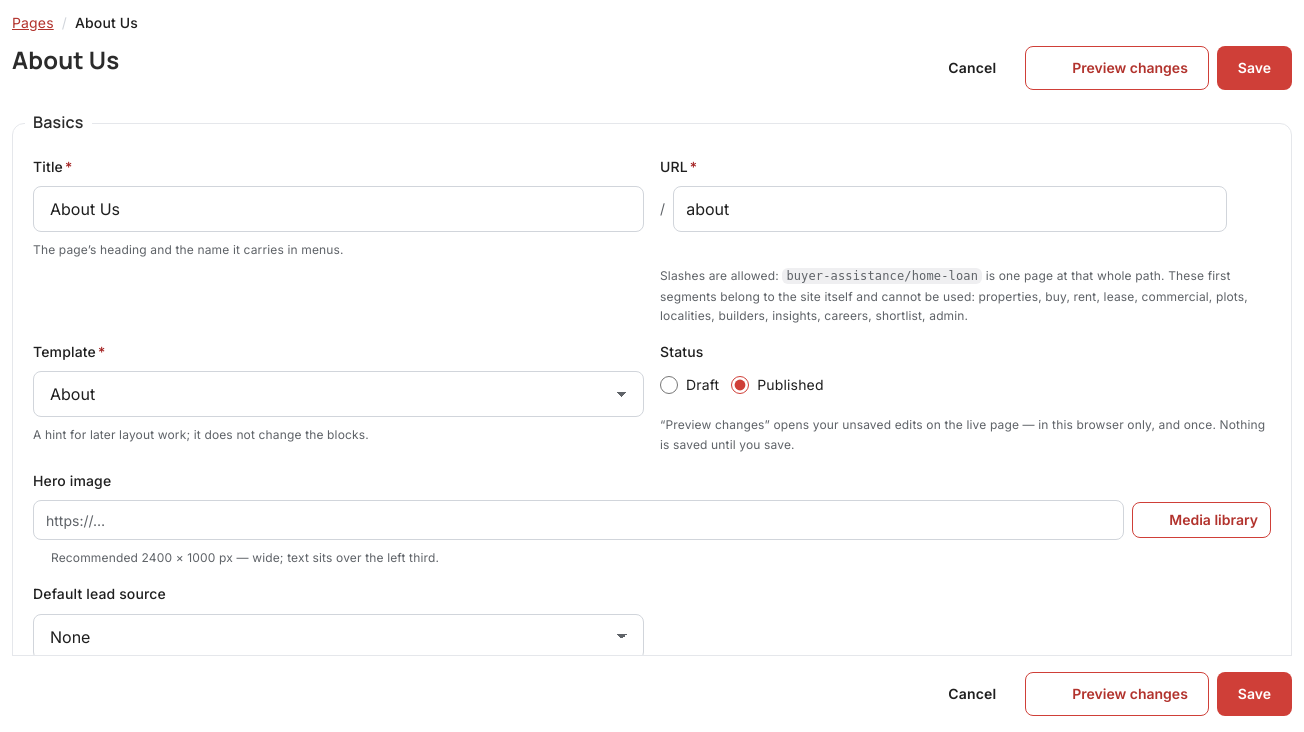
Test: PageFormPage › saving › does not write a page nothing has changed on (QA-56)
Click the 2nd button "Save" at [1254, 694], box [1217,672,1292,716]
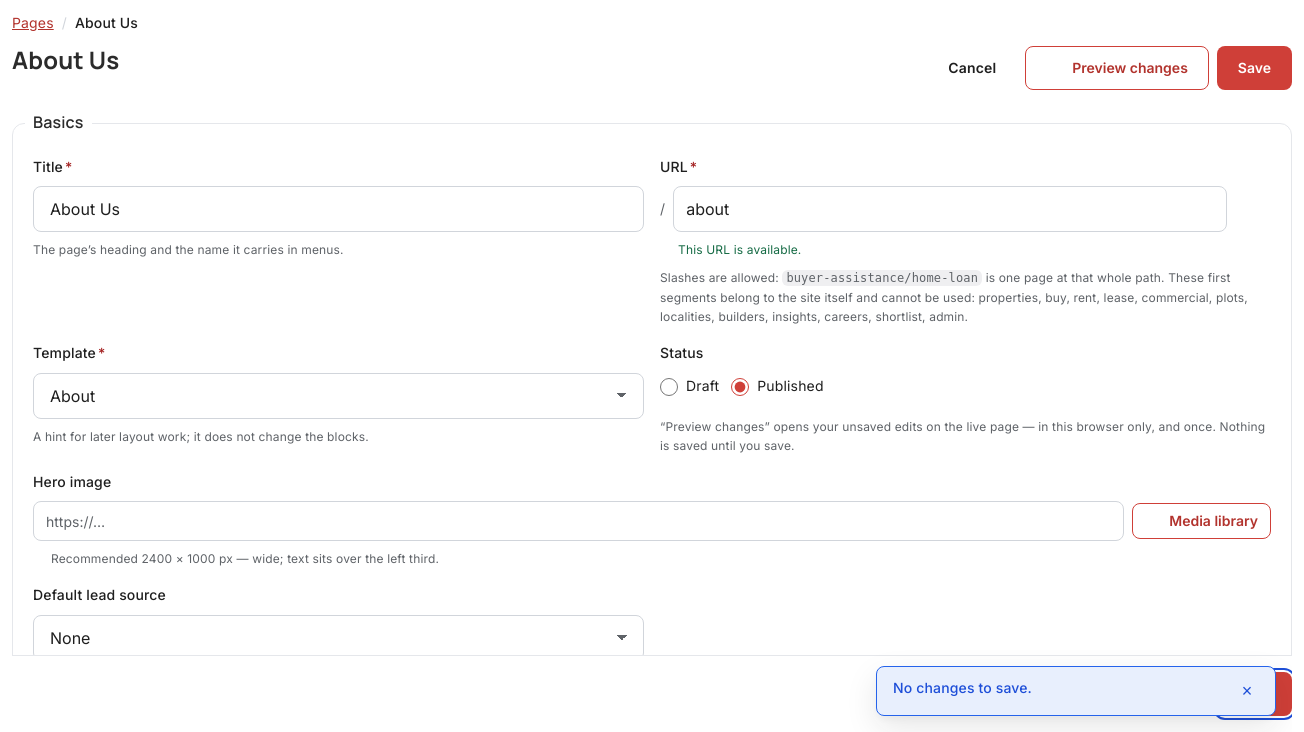
Expected: the text "No changes to save." is shown, [893,679,1032,696]
